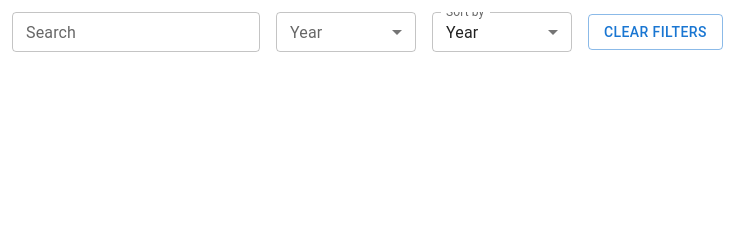
Scenario: CarFilters › offers every supplied year plus an all-years option and reports the chosen year
This screenshot has width=740, height=242.
Click the dropdown named "year" at (346, 32), box [276, 12, 416, 52]
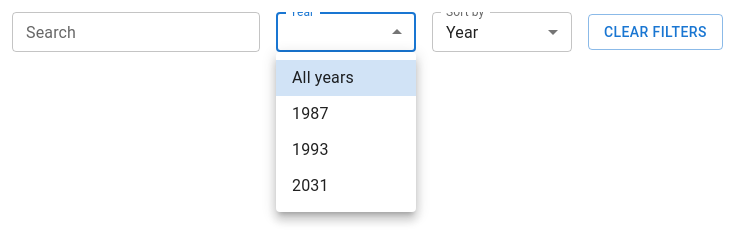
expect the number of options is 4: met
expect the option "All years" is shown: met, box [276, 60, 416, 96]
expect the option "1987" is shown: met, box [292, 104, 329, 123]
Click the option "1993" at (310, 150), box [292, 140, 329, 159]
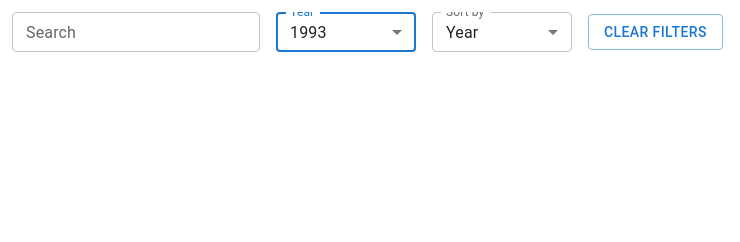
expect the dropdown named "year" reads "1993": met, box [290, 22, 327, 42]
